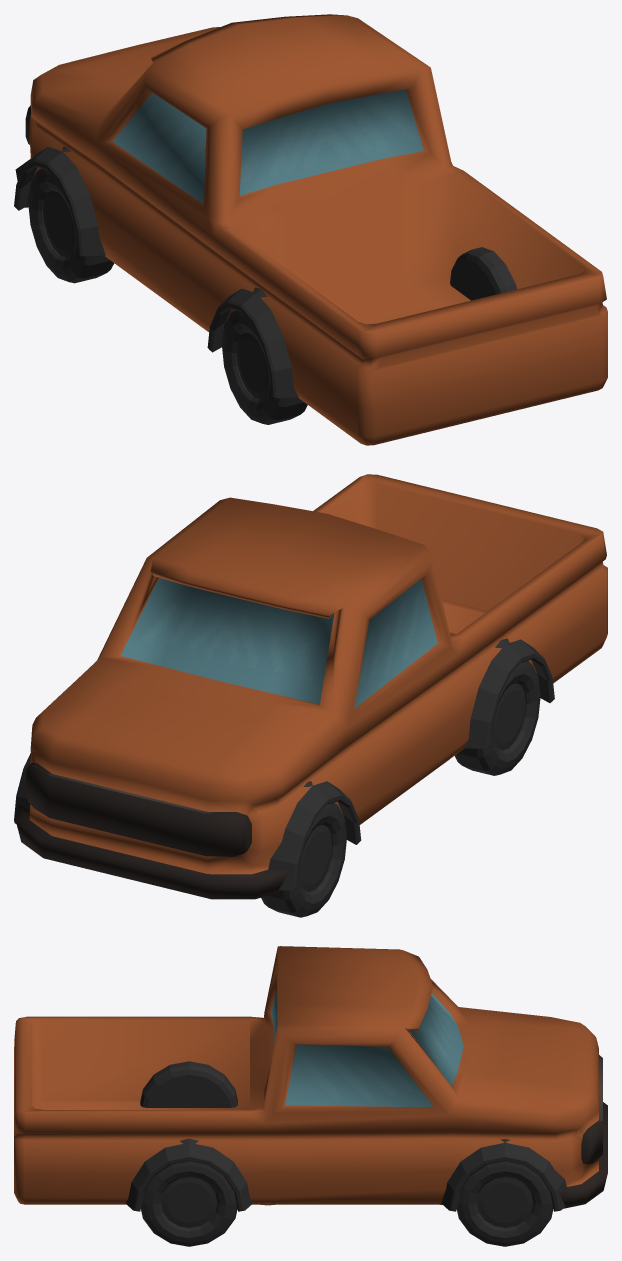
File: truckPlaceholder.glb
3 views of the same model, one above another, from view 1: azimuth 30°, elevation 25°; view 2: azimuth 150°, elevation 25°; view 3: azimuth 270°, elevation 25° (orthographic). The views are drawn at different scales.
Parts seen in each view (by area): view 1: Cylinder.001; view 2: Cylinder.001; view 3: Cylinder.001.
Boxes of the visible parts, <box> form: Cylinder.001: <box>14,14,607,445</box>; Cylinder.001: <box>14,474,607,917</box>; Cylinder.001: <box>14,946,607,1246</box>.
Size of the model in its own units: 10.6 by 9.62 by 23.76.
2 materials, 1 textured.
